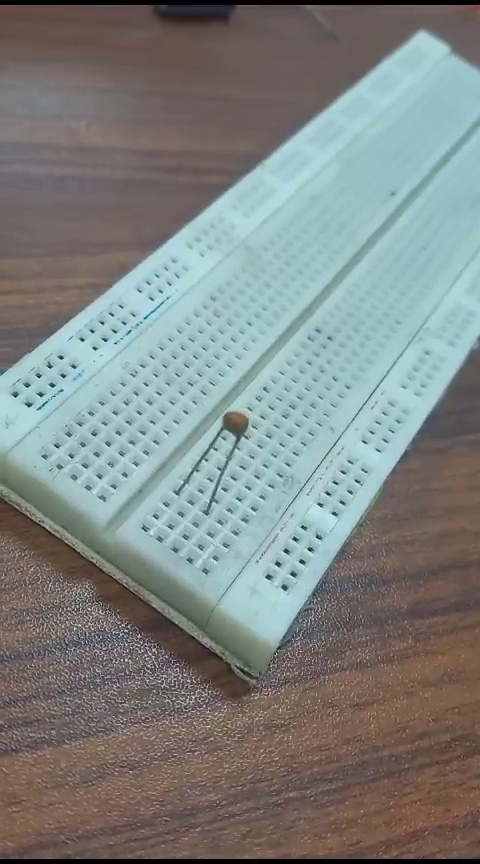ceramic capacitor: (175, 400, 258, 492)
